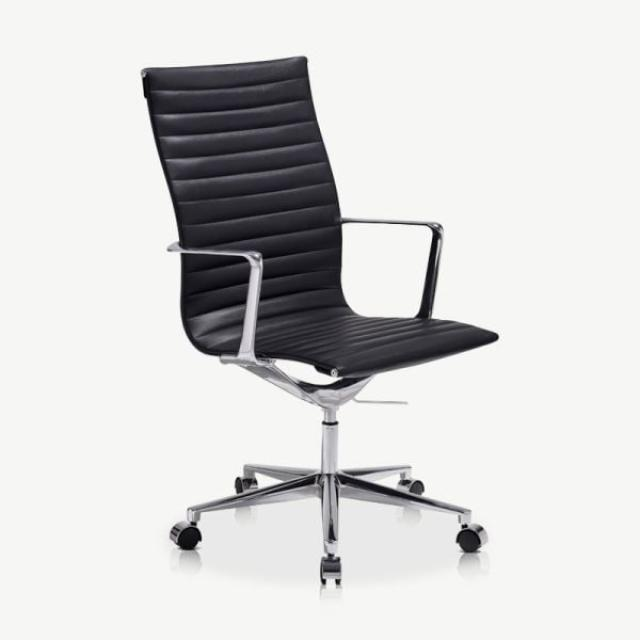chair: (99, 35, 527, 635)
